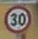limite 30: (3, 3, 32, 33)
